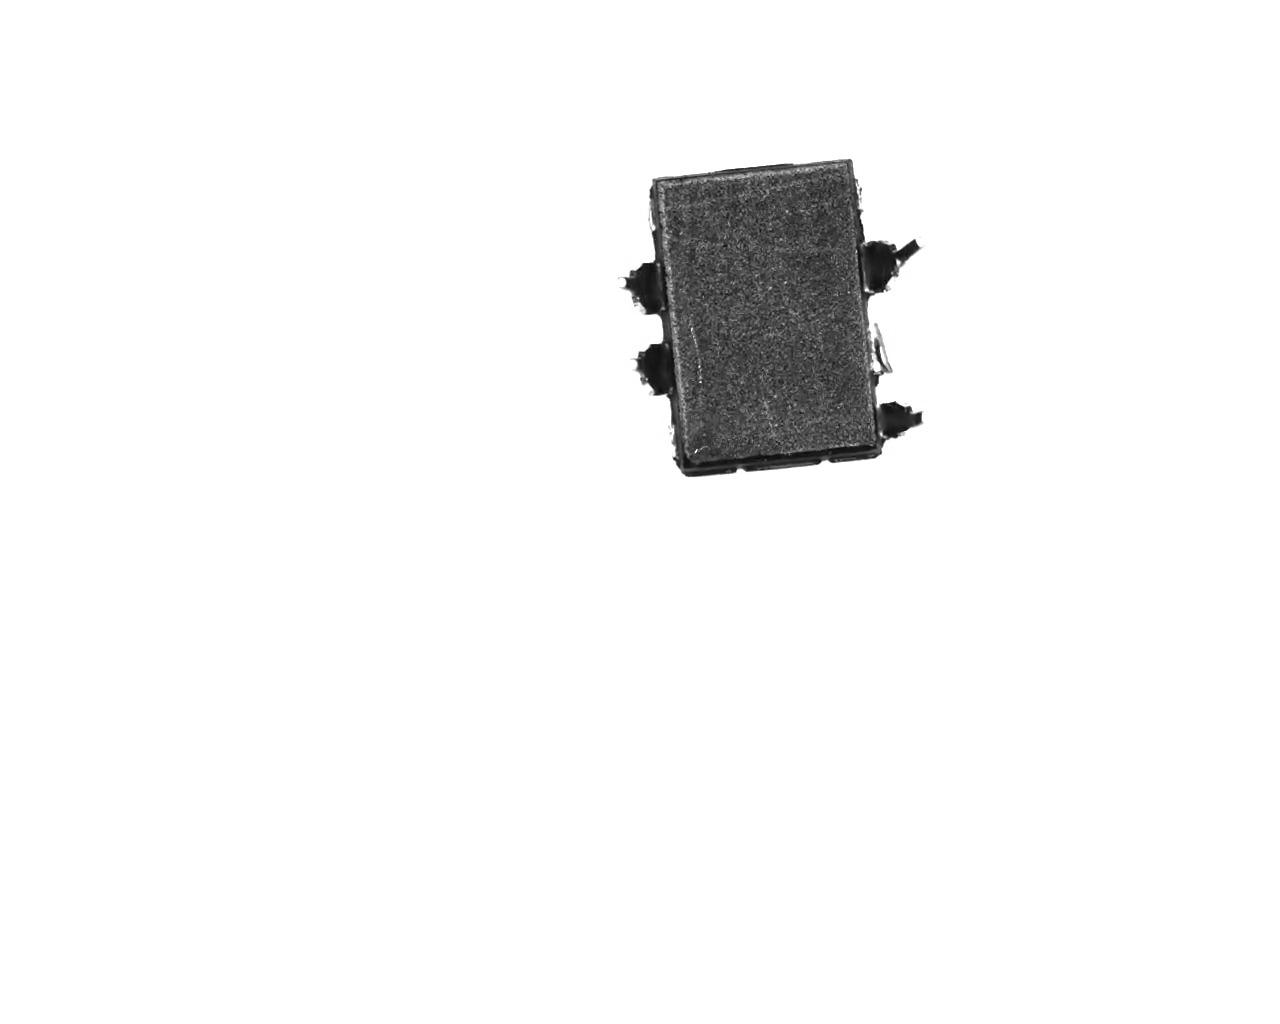brokenLeg: (854, 227, 936, 290), (612, 261, 677, 323), (612, 342, 684, 397), (870, 393, 934, 440)
missingLeg: (625, 190, 668, 250), (863, 323, 903, 378), (660, 405, 691, 474), (843, 161, 871, 225)
